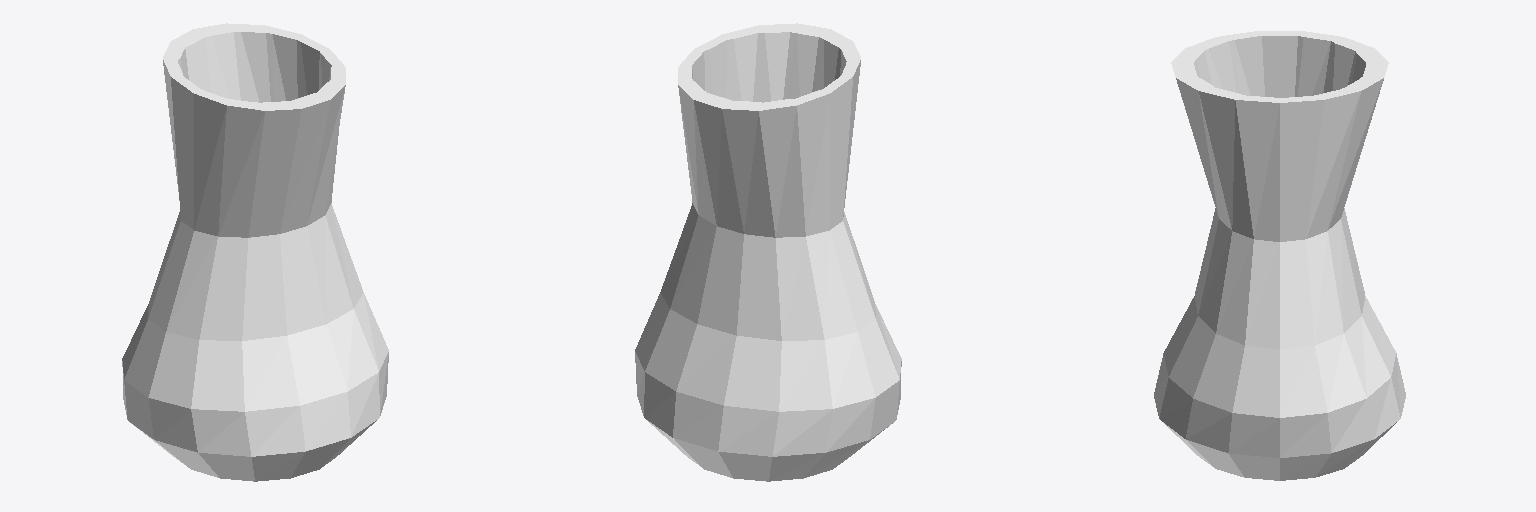
Rendered from VASA.obj.
3 renders of one model, left to right at view 1: azimuth 30°, elevation 25°; view 2: azimuth 150°, elevation 25°; view 3: azimuth 270°, elevation 25°, orthographic.
Parts seen in each view (by area): view 1: Cylinder001; view 2: Cylinder001; view 3: Cylinder001.
Part boxes in pixels (x1,y1,x2,y2): Cylinder001: (122,23,388,481); Cylinder001: (635,23,901,481); Cylinder001: (1154,31,1405,480).
Size of the model in its own units: 104 by 157 by 95.19.